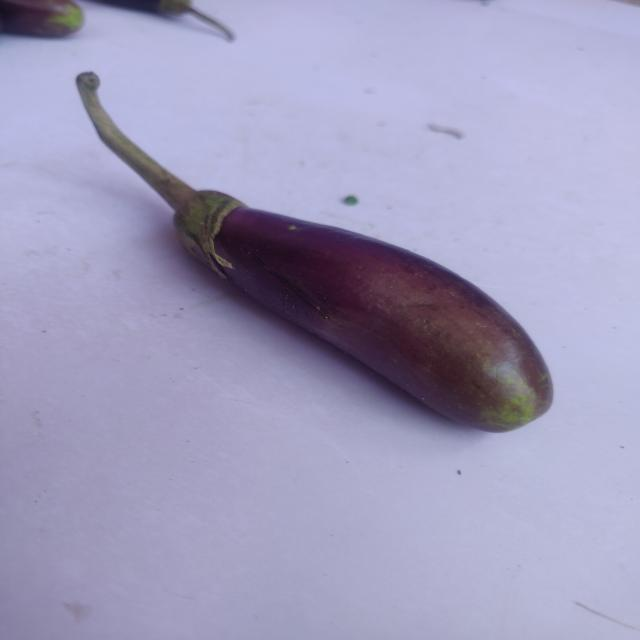Brinjal: (56, 67, 560, 440)
